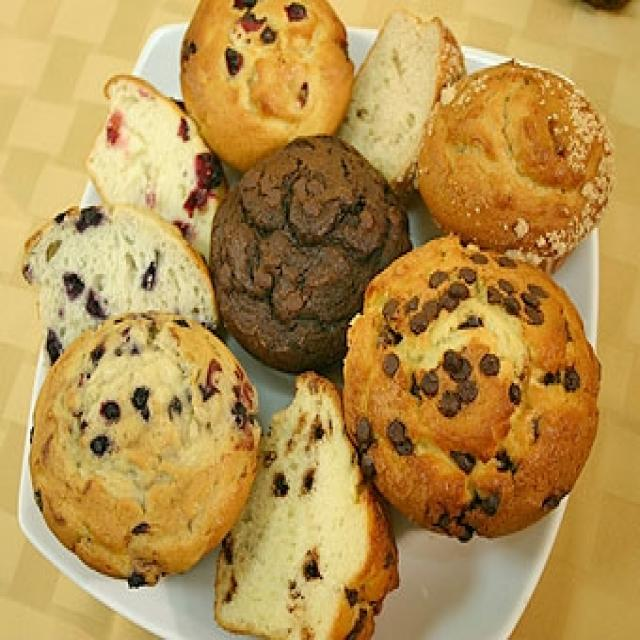炸货点心: (26, 5, 610, 628)
面包点心: (26, 5, 610, 628)
